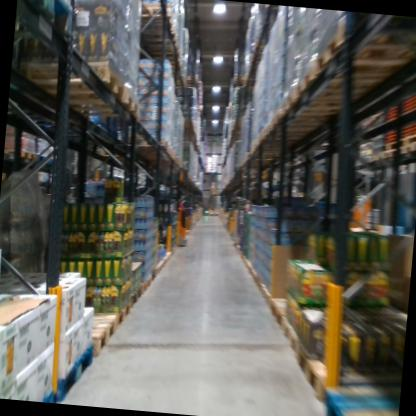pallet: (312, 19, 416, 97), (25, 48, 126, 111), (294, 52, 390, 104), (322, 364, 400, 416), (293, 343, 354, 402), (73, 84, 144, 131), (289, 319, 348, 375), (284, 82, 368, 117), (57, 335, 100, 400), (265, 289, 311, 335), (83, 310, 117, 365), (131, 0, 176, 34), (104, 299, 132, 335), (360, 143, 389, 167), (124, 279, 144, 312), (41, 373, 62, 403), (280, 319, 296, 347), (384, 145, 405, 165), (404, 137, 416, 159)
pallet_truck: (331, 163, 385, 252), (172, 196, 191, 257)
